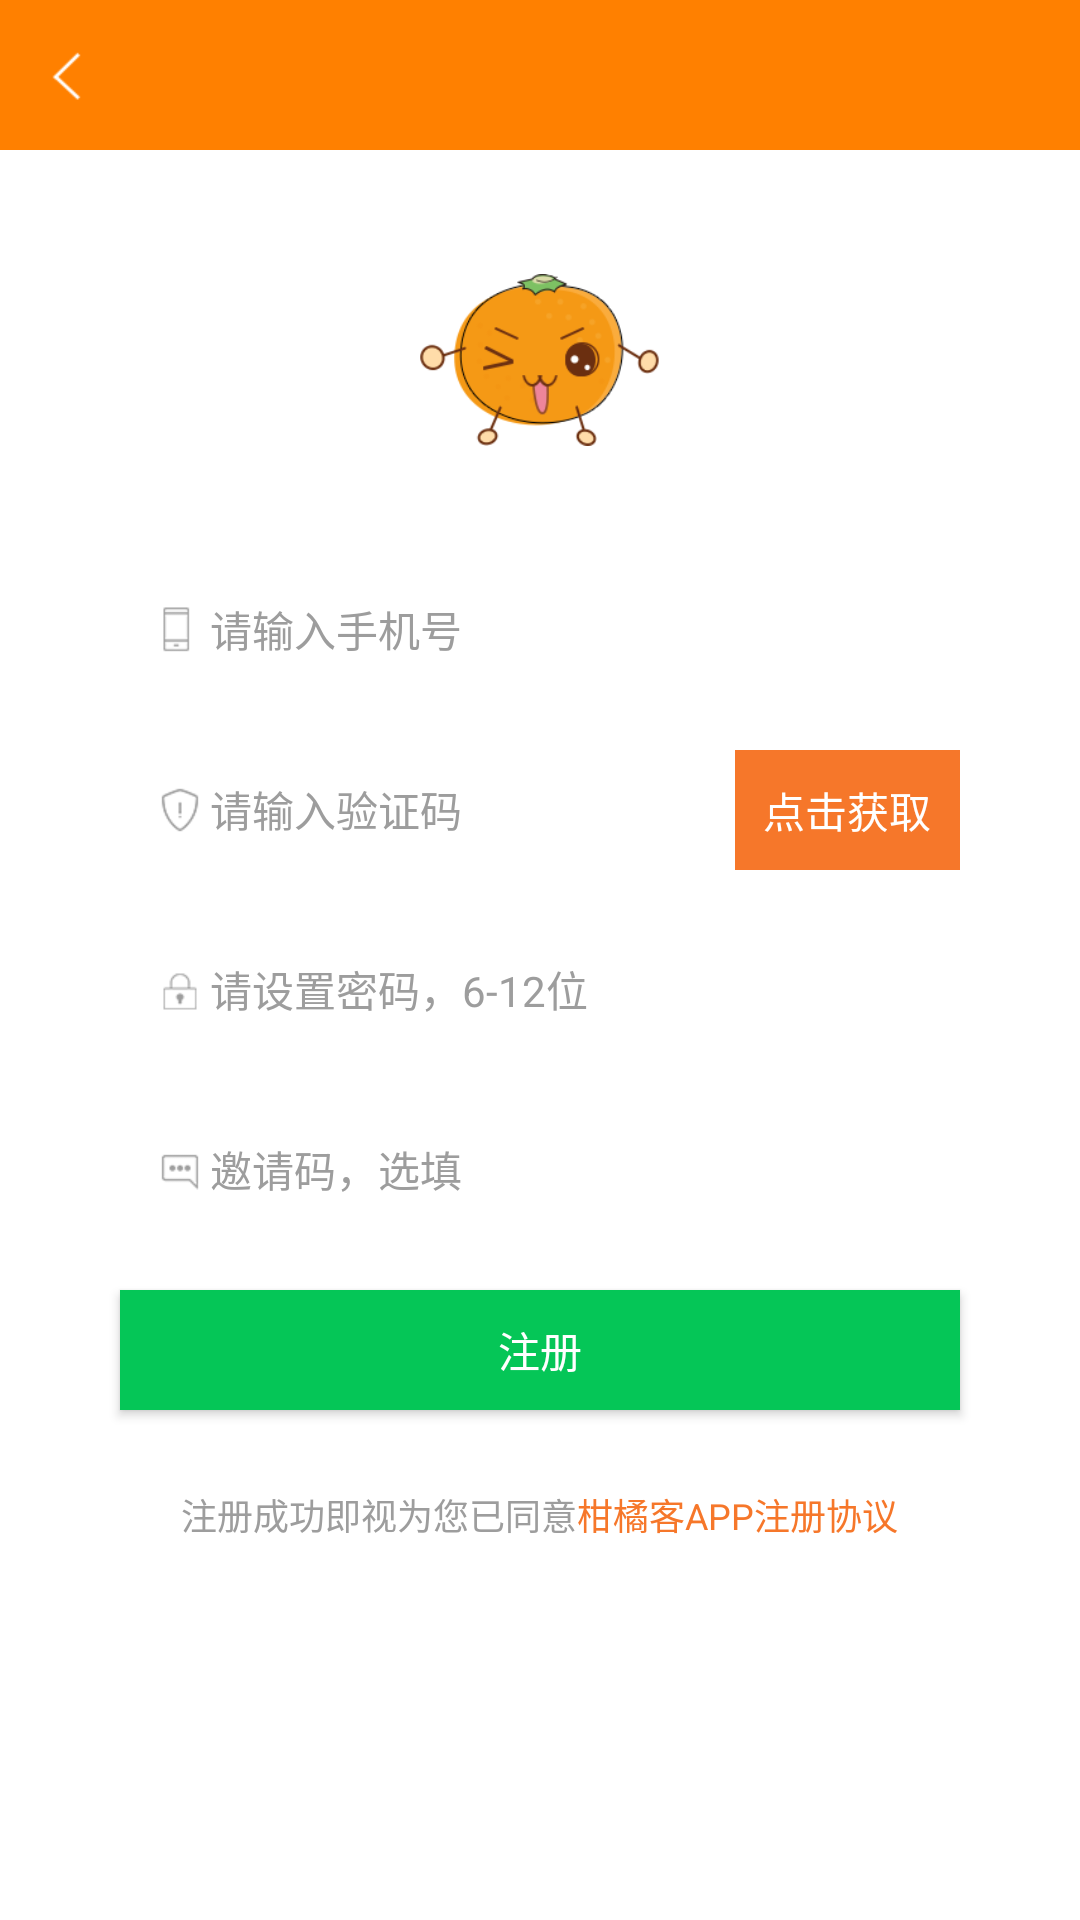

Screen size 1080px x 1920px. Icon name, then its center in pixels as [x,y]:
face success: [539,360]
title back: [67,76]
